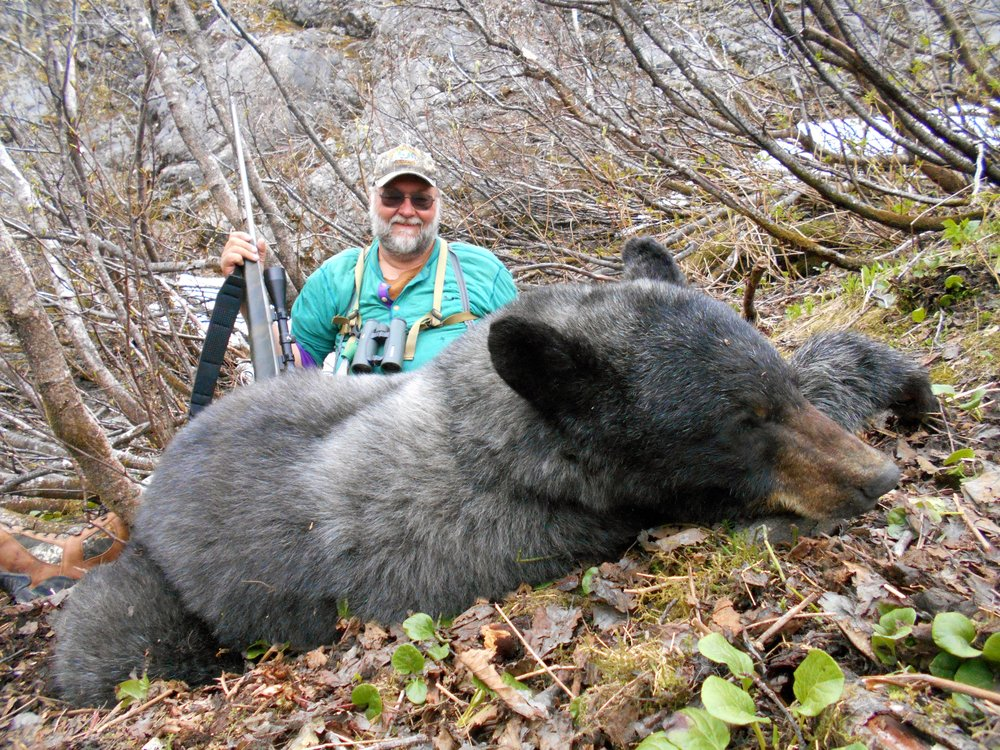bear: (495, 246, 914, 532)
